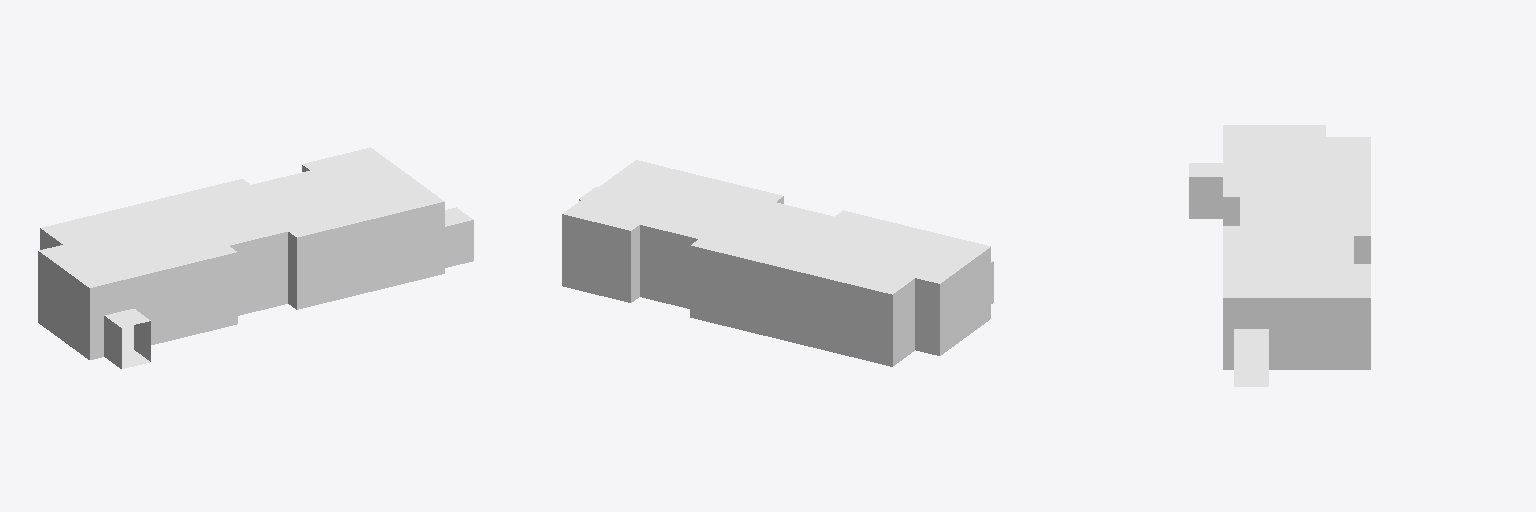
File: room_base7.obj
3 renders of one model, left to right at view 1: azimuth 30°, elevation 25°; view 2: azimuth 150°, elevation 25°; view 3: azimuth 270°, elevation 25°, orthographic.
Parts seen in each view (by area): view 1: room_base7; view 2: room_base7; view 3: room_base7.
Boxes of the visible parts, box(x1,y1,x2,y2) form: room_base7: box(38, 147, 473, 368); room_base7: box(562, 160, 993, 366); room_base7: box(1189, 125, 1370, 386).
Size of the model in its own units: 39.5 by 7 by 16.